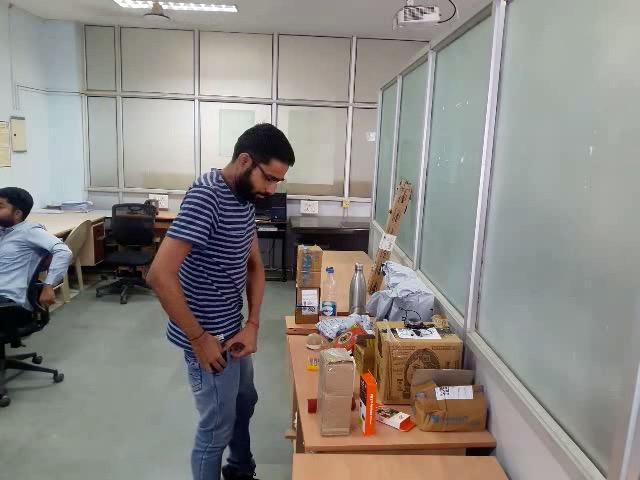shoplifting: (113, 318, 326, 418)
